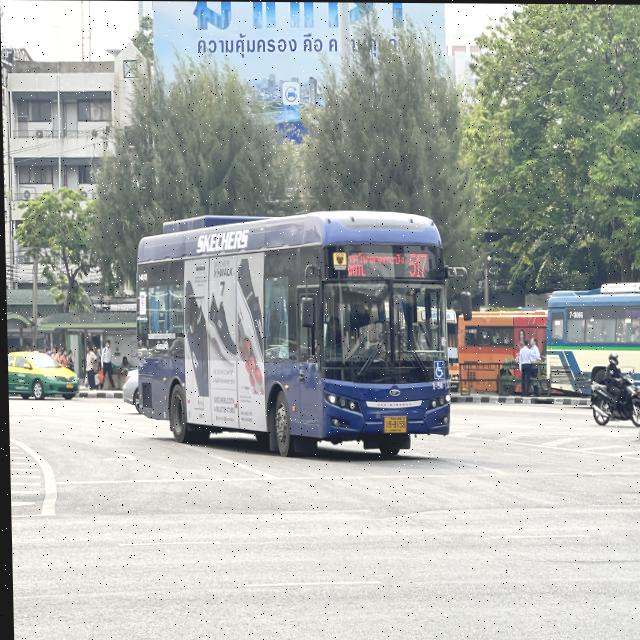BMTA-bus: (125, 210, 451, 459)
Bus Line Number: (405, 250, 431, 280)
Bus Side Number: (428, 379, 450, 389)
Destination Sign: (342, 251, 404, 278)
